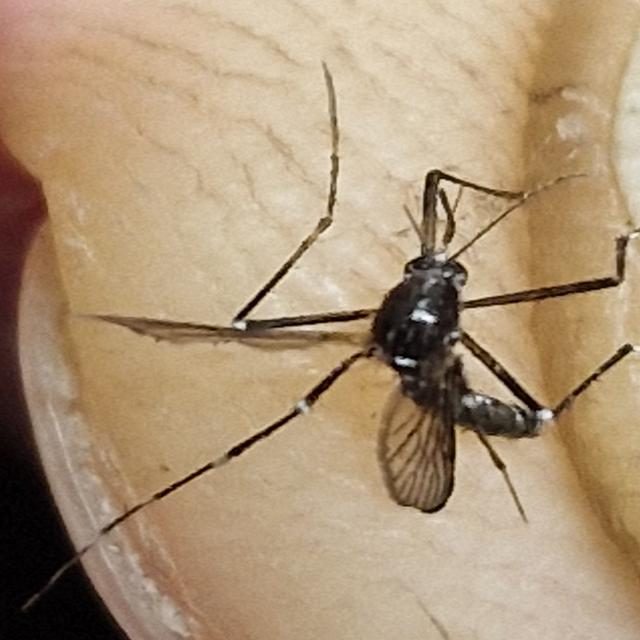albopictus: (64, 50, 640, 583)
